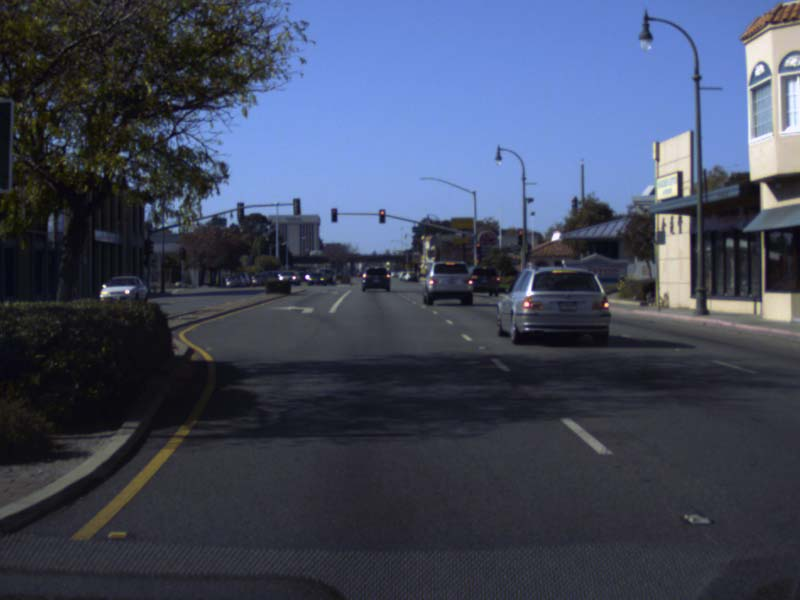Red: (516, 229, 523, 245), (378, 208, 385, 224), (475, 241, 482, 254), (331, 207, 336, 222)
